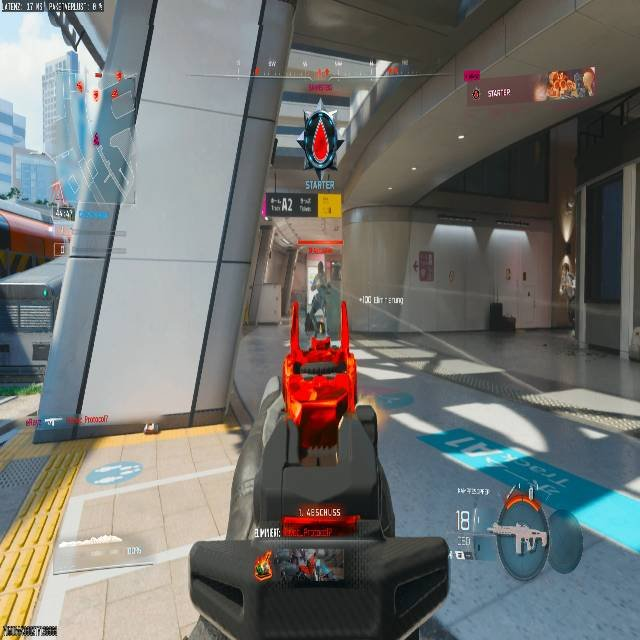player: (301, 107, 340, 168)
